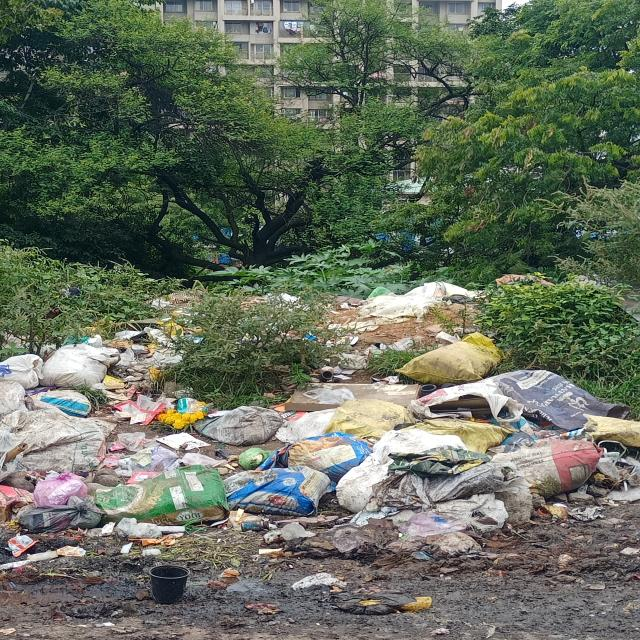garbage: (131, 288, 640, 556), (0, 346, 133, 589)
